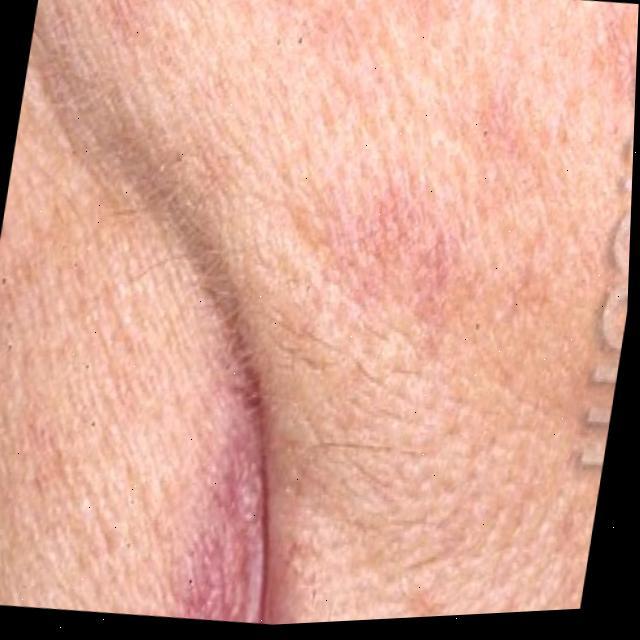Rosacea: (351, 171, 473, 332)
